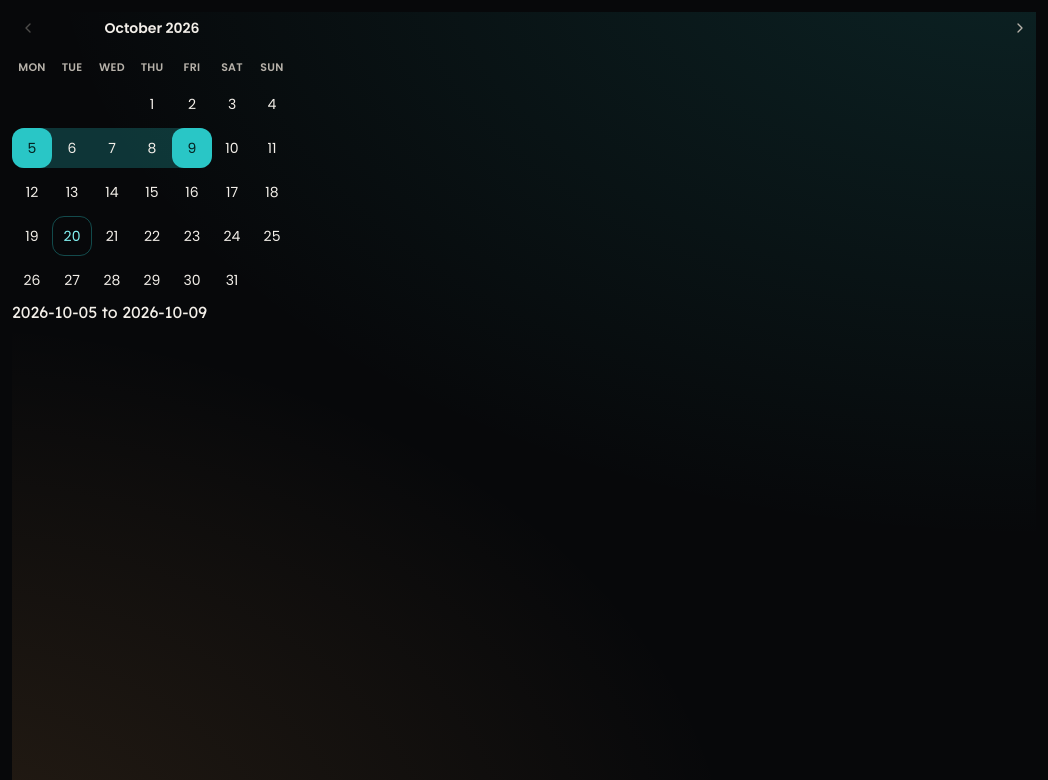
Calendar range mode › starts over when a multi-day range is already complete
The image size is (1048, 780).
Click the button named "October 20, 2026": (72, 236) 52,216 -> 92,256
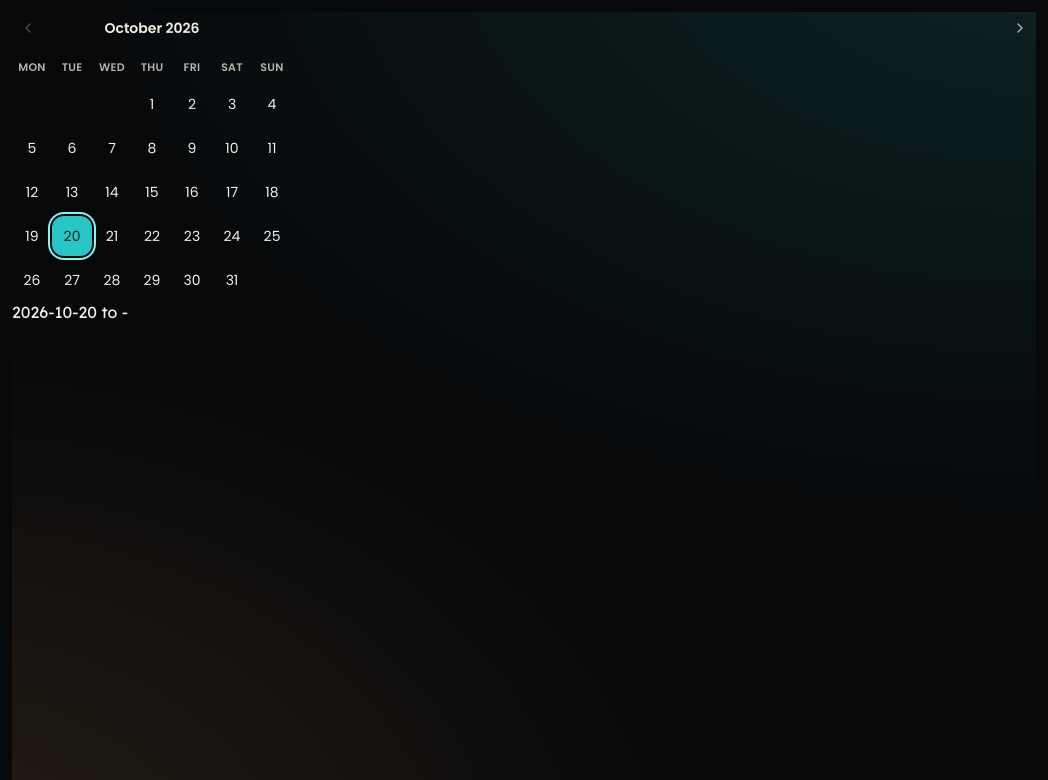
Expected: the text with test id "range" reads "2026-10-20 to -", 12,302 -> 128,322
